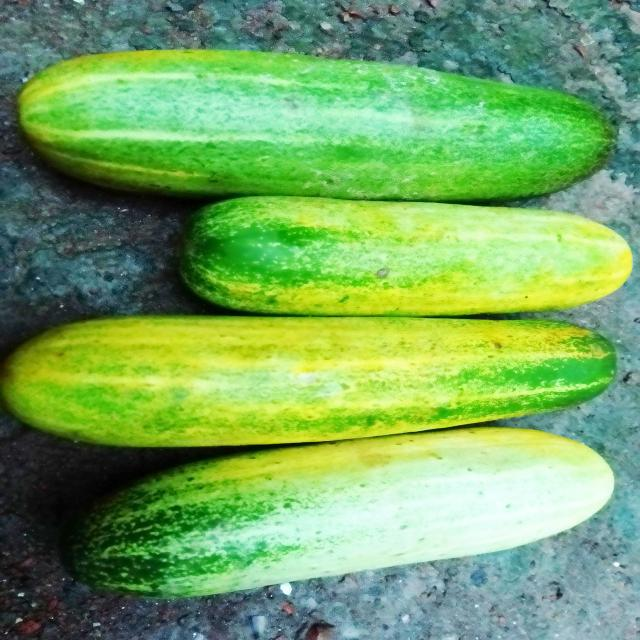Fresh-Cucumber: (17, 45, 620, 203), (81, 423, 614, 600), (7, 310, 619, 450), (180, 192, 636, 315)
